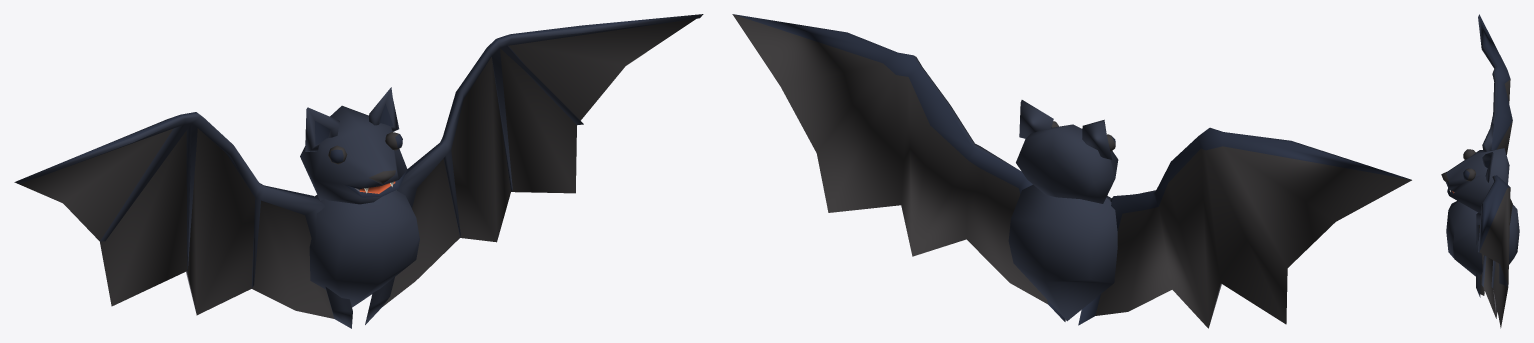
The model's file is netopyr.glb.
3 renders of one model, left to right at view 1: azimuth 30°, elevation 25°; view 2: azimuth 150°, elevation 25°; view 3: azimuth 270°, elevation 25°, orthographic. The views are drawn at different scales.
Size of the model in its own units: 0.9619 by 0.3244 by 0.1337.
Materials: 1 (1 with a texture image).
